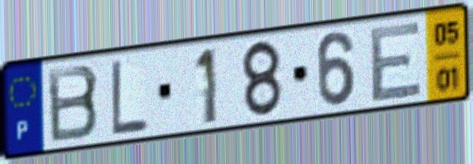1: (193, 44, 221, 127)
6: (315, 29, 358, 109)
8: (238, 36, 286, 122)
B: (44, 61, 102, 146)
E: (368, 18, 425, 106)
L: (109, 57, 150, 137)
